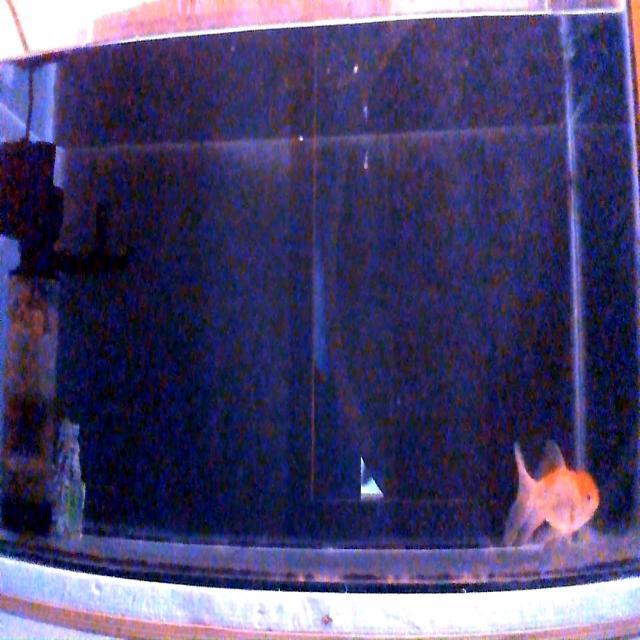fish: (504, 437, 598, 547)
